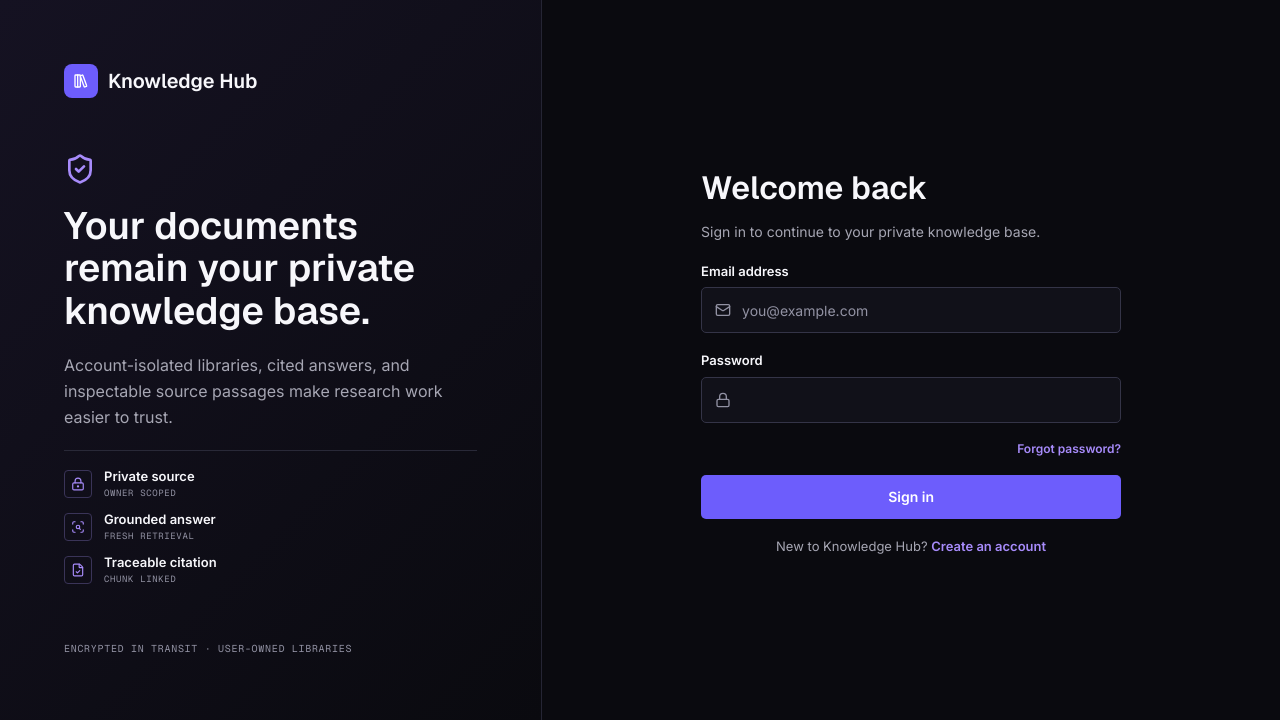
login › renders the standard backend error message when login fails
Type "ada@example.com" into the field labelled "Email address". click: {"x": 911, "y": 310}
box: [701,287,1121,333]
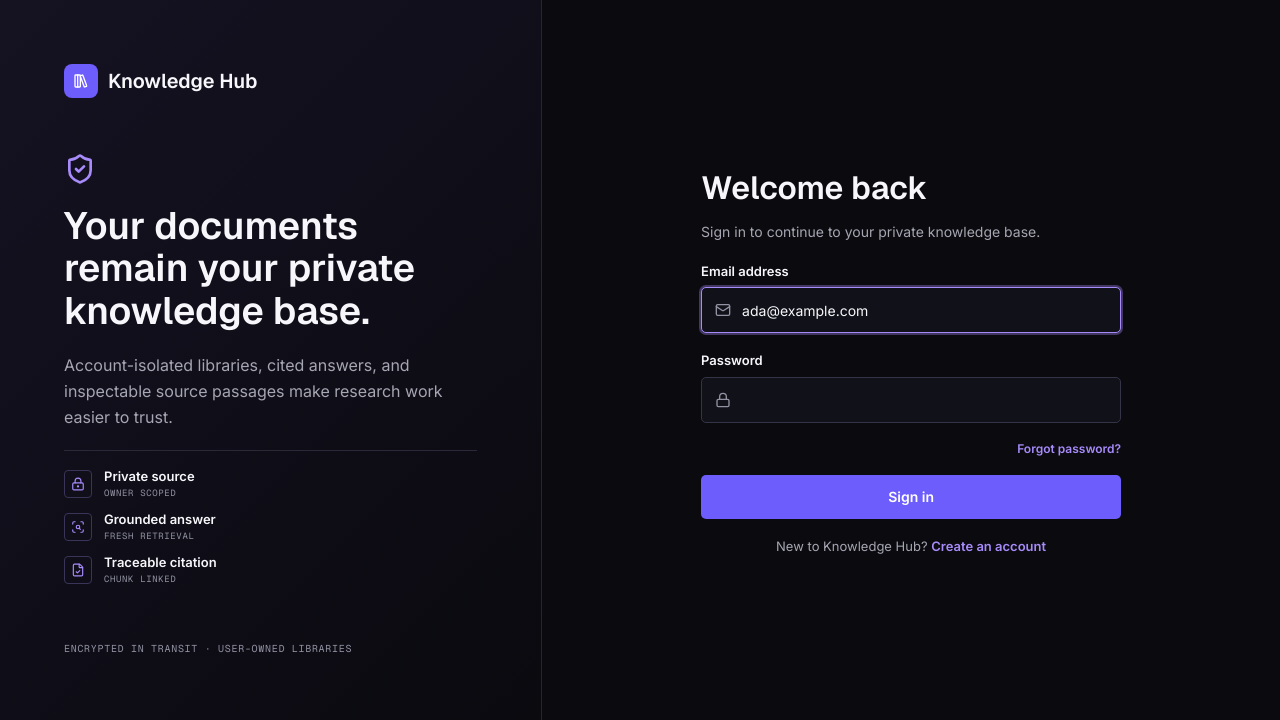
Type "incorrect-password" into the password field labelled "Password". click: {"x": 911, "y": 400}
box: [701,377,1121,423]
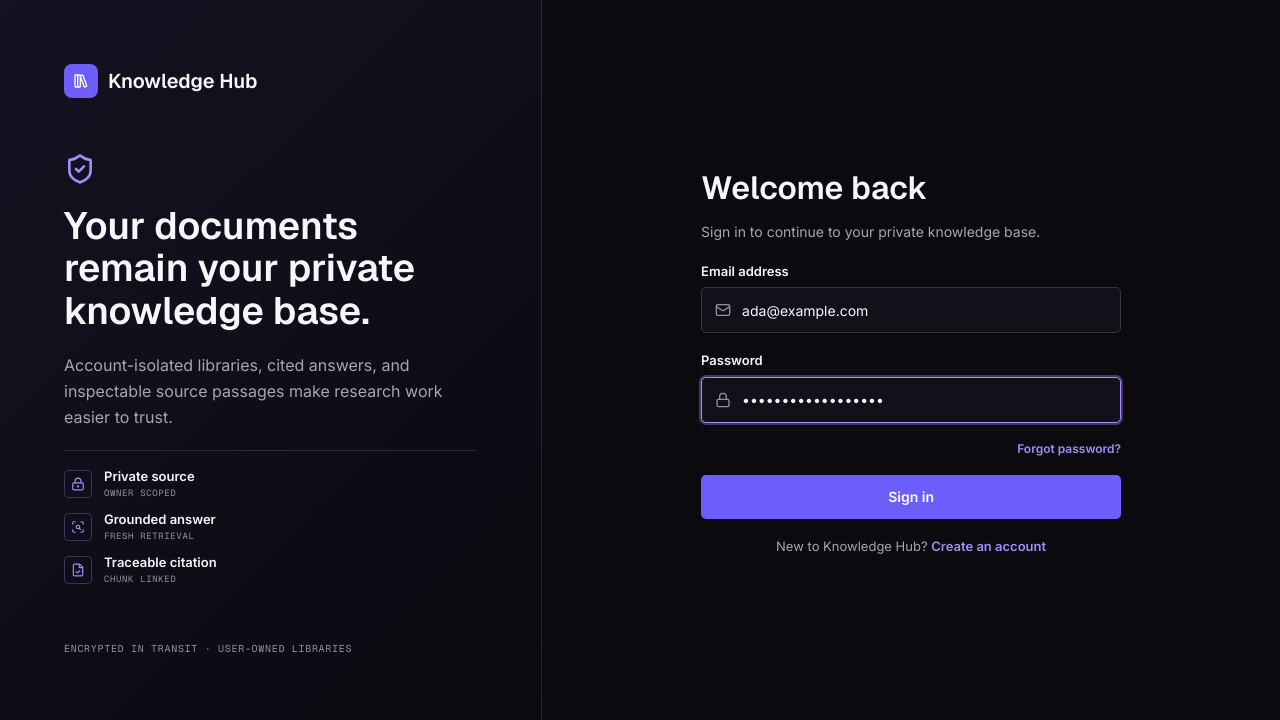
Click the button "Sign in". click: {"x": 911, "y": 497}
box: [701,475,1121,519]
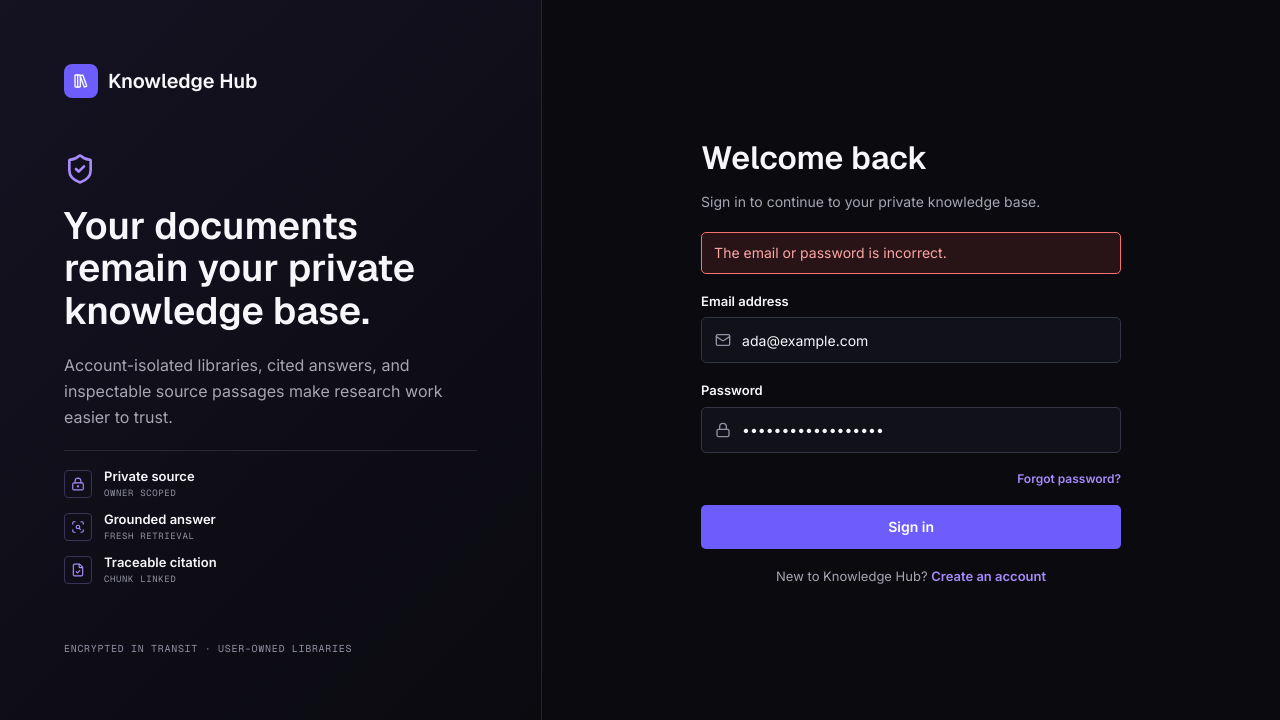
expect the text "The email or password is incorrect." is shown: met, box [701,232,1121,274]
